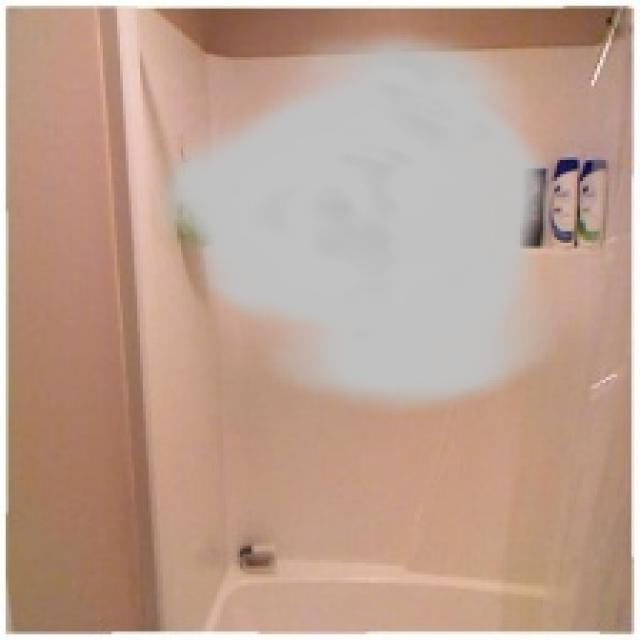smoke: (152, 20, 557, 414)
